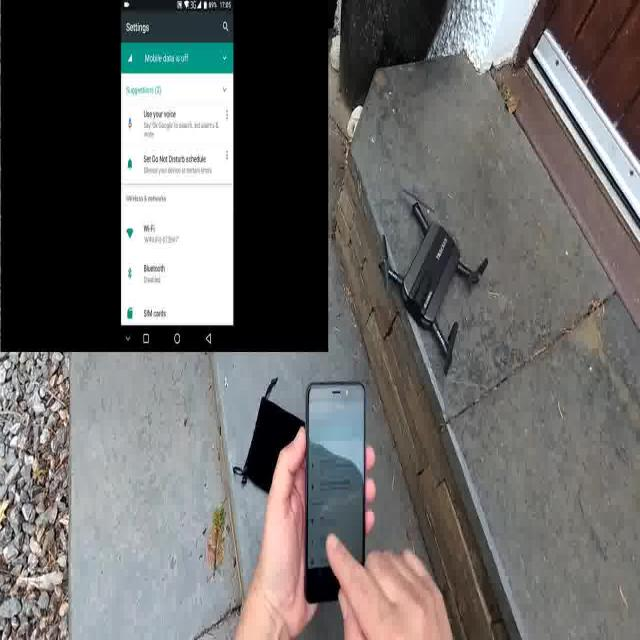drone: (378, 185, 488, 378)
